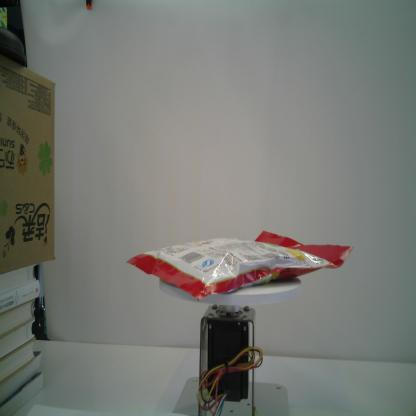Instant Drink: (122, 228, 356, 304)
